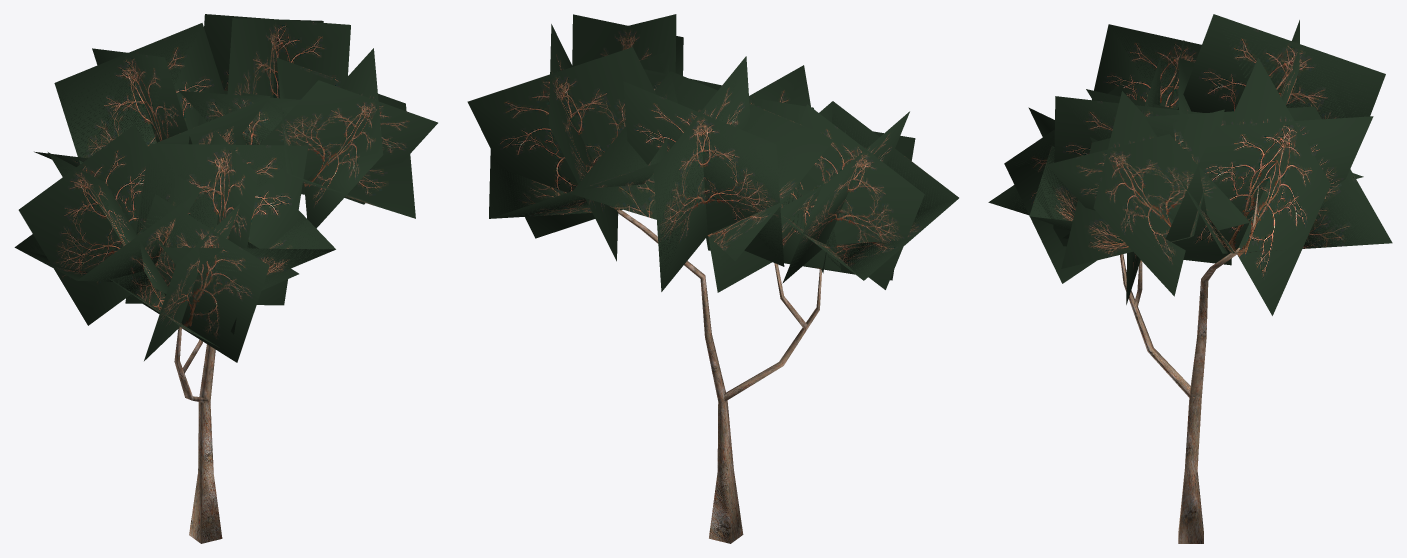
The model's file is decd_ginkgotreebranches_l1.fbx.
3 views of the same model, side by side, from view 1: azimuth 30°, elevation 25°; view 2: azimuth 150°, elevation 25°; view 3: azimuth 270°, elevation 25° (orthographic). The views are drawn at different scales.
Parts seen in each view (by area): view 1: mesh_node; view 2: mesh_node; view 3: mesh_node.
Part boxes in pixels (bbox=[...]): mesh_node: bbox=[14, 14, 437, 543]; mesh_node: bbox=[467, 14, 958, 543]; mesh_node: bbox=[988, 14, 1392, 543].
Bounding box in the file's own units: 3.19 × 3.66 × 2.63.
3 materials, 3 textured.
